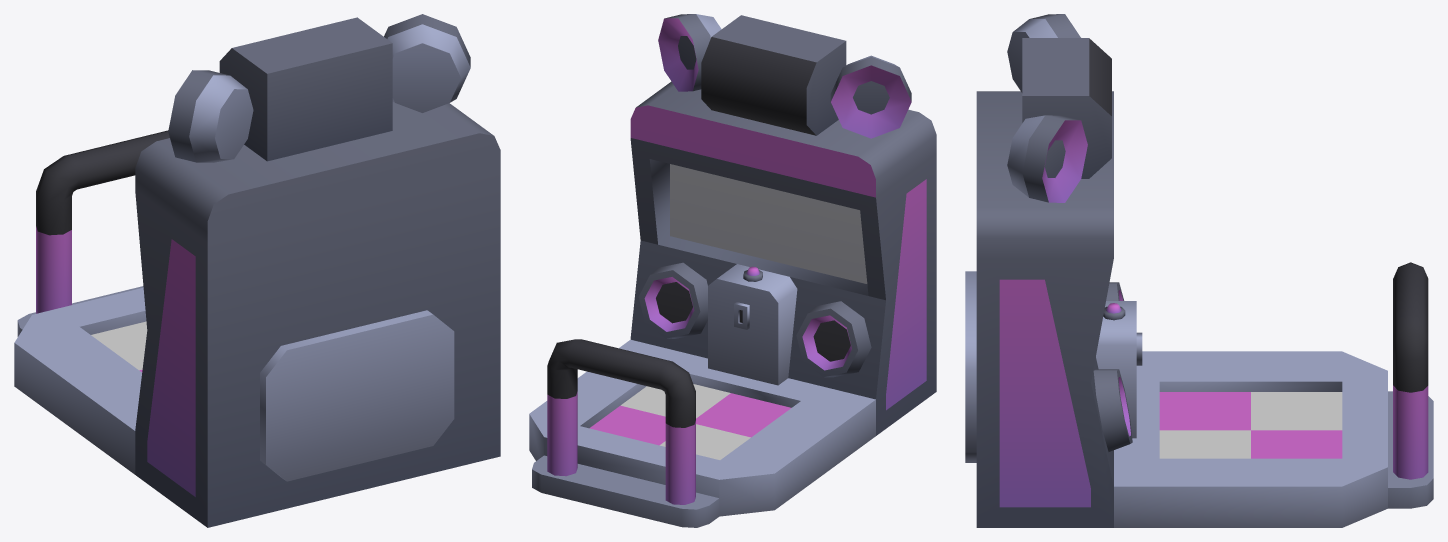
Rendered from dance.fbx.
3 views of the same model, side by side, from view 1: azimuth 30°, elevation 25°; view 2: azimuth 150°, elevation 25°; view 3: azimuth 270°, elevation 25° (orthographic). The views are drawn at different scales.
Parts seen in each view (by area): view 1: dance-machine; view 2: dance-machine; view 3: dance-machine.
Part boxes in pixels (x1,y1,x2,y2): dance-machine: (14, 14, 500, 527); dance-machine: (529, 14, 936, 527); dance-machine: (965, 14, 1433, 527).
Size of the model in its own units: 0.7056 by 0.9268 by 1.
